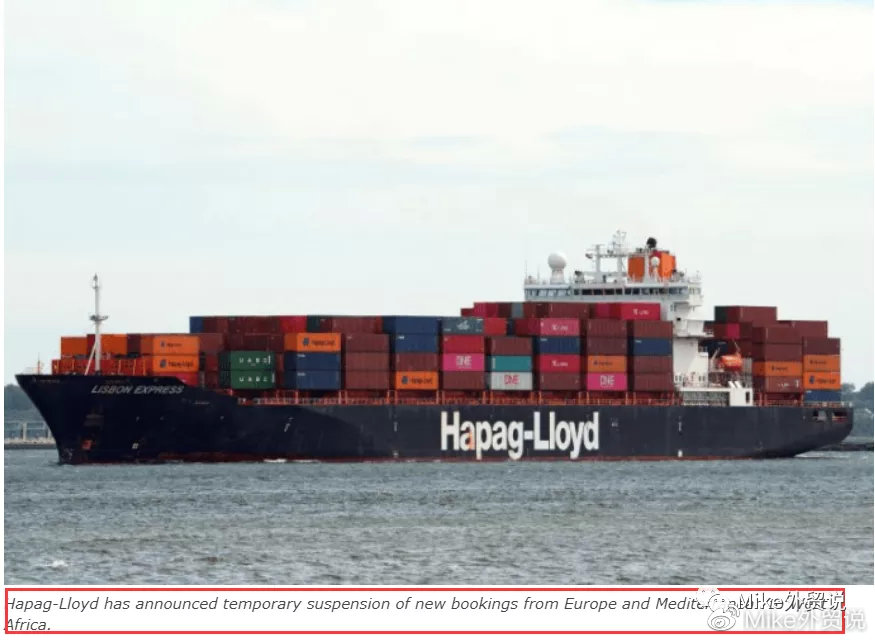Cargoship: (8, 231, 849, 472)
